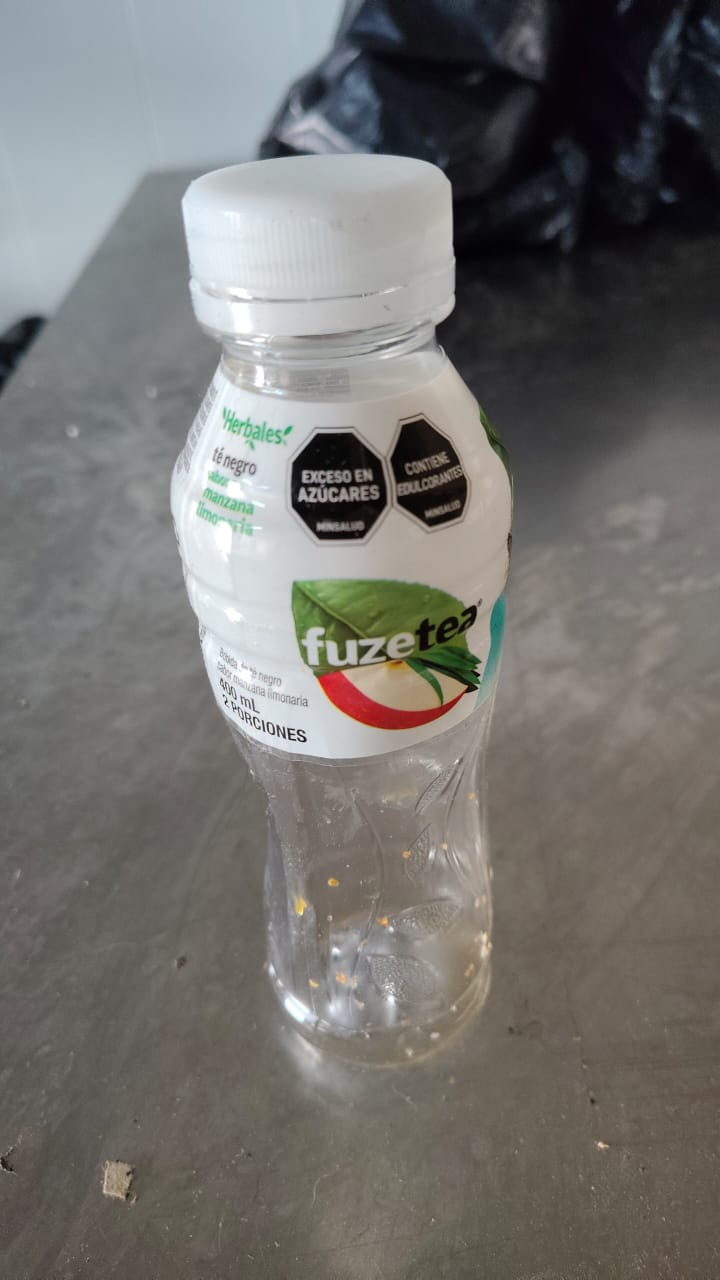Plastico: (168, 155, 511, 1064)
